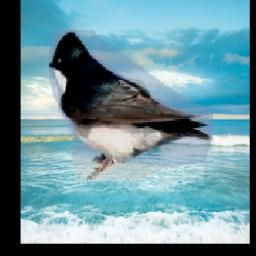Swallow: (48, 30, 212, 181)
